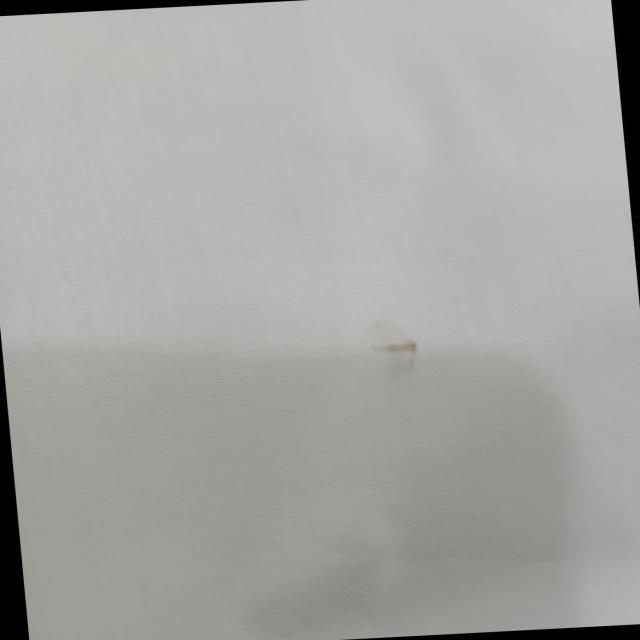stain: (351, 320, 442, 401)
